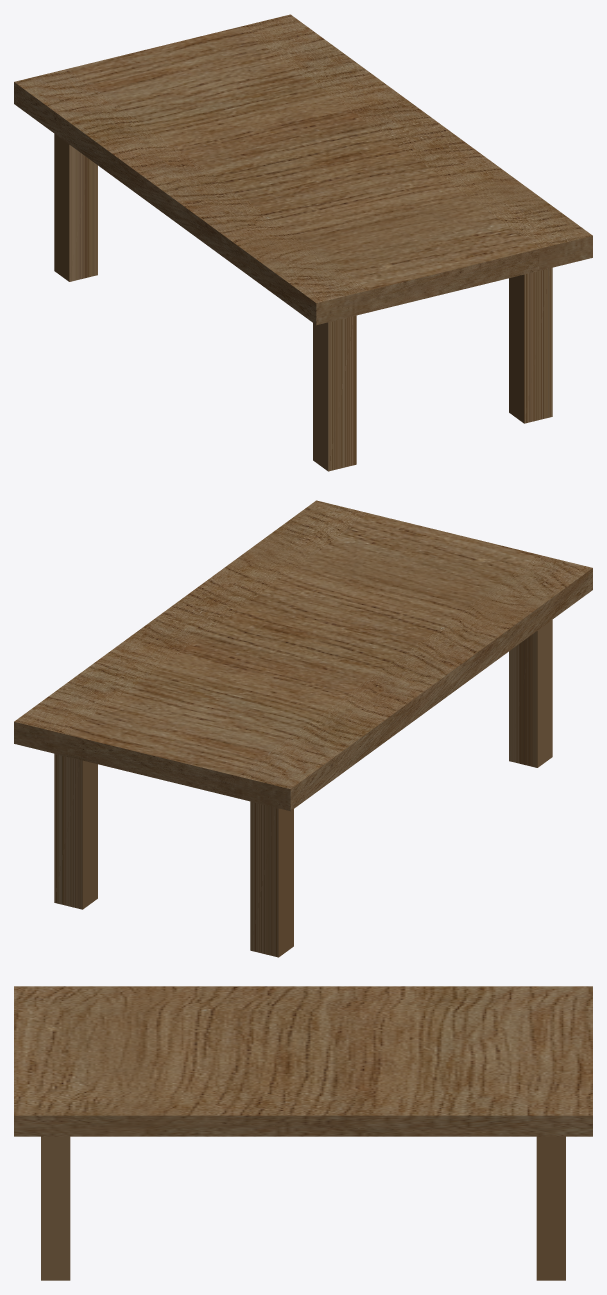
File: table.obj
The picture shows the model from 3 angles, top to bottom: view 1: azimuth 30°, elevation 25°; view 2: azimuth 150°, elevation 25°; view 3: azimuth 270°, elevation 25°; orthographic projection. The views are drawn at different scales.
Visible parts, largest first — view 1: Cube; view 2: Cube; view 3: Cube.
Boxes of the visible parts, x1,y1,x2,y2 form: Cube: [14, 14, 592, 471]; Cube: [14, 500, 592, 957]; Cube: [14, 986, 592, 1280].
Size of the model in its own units: 5.49 by 3.51 by 10.4.
1 material, 1 textured.
